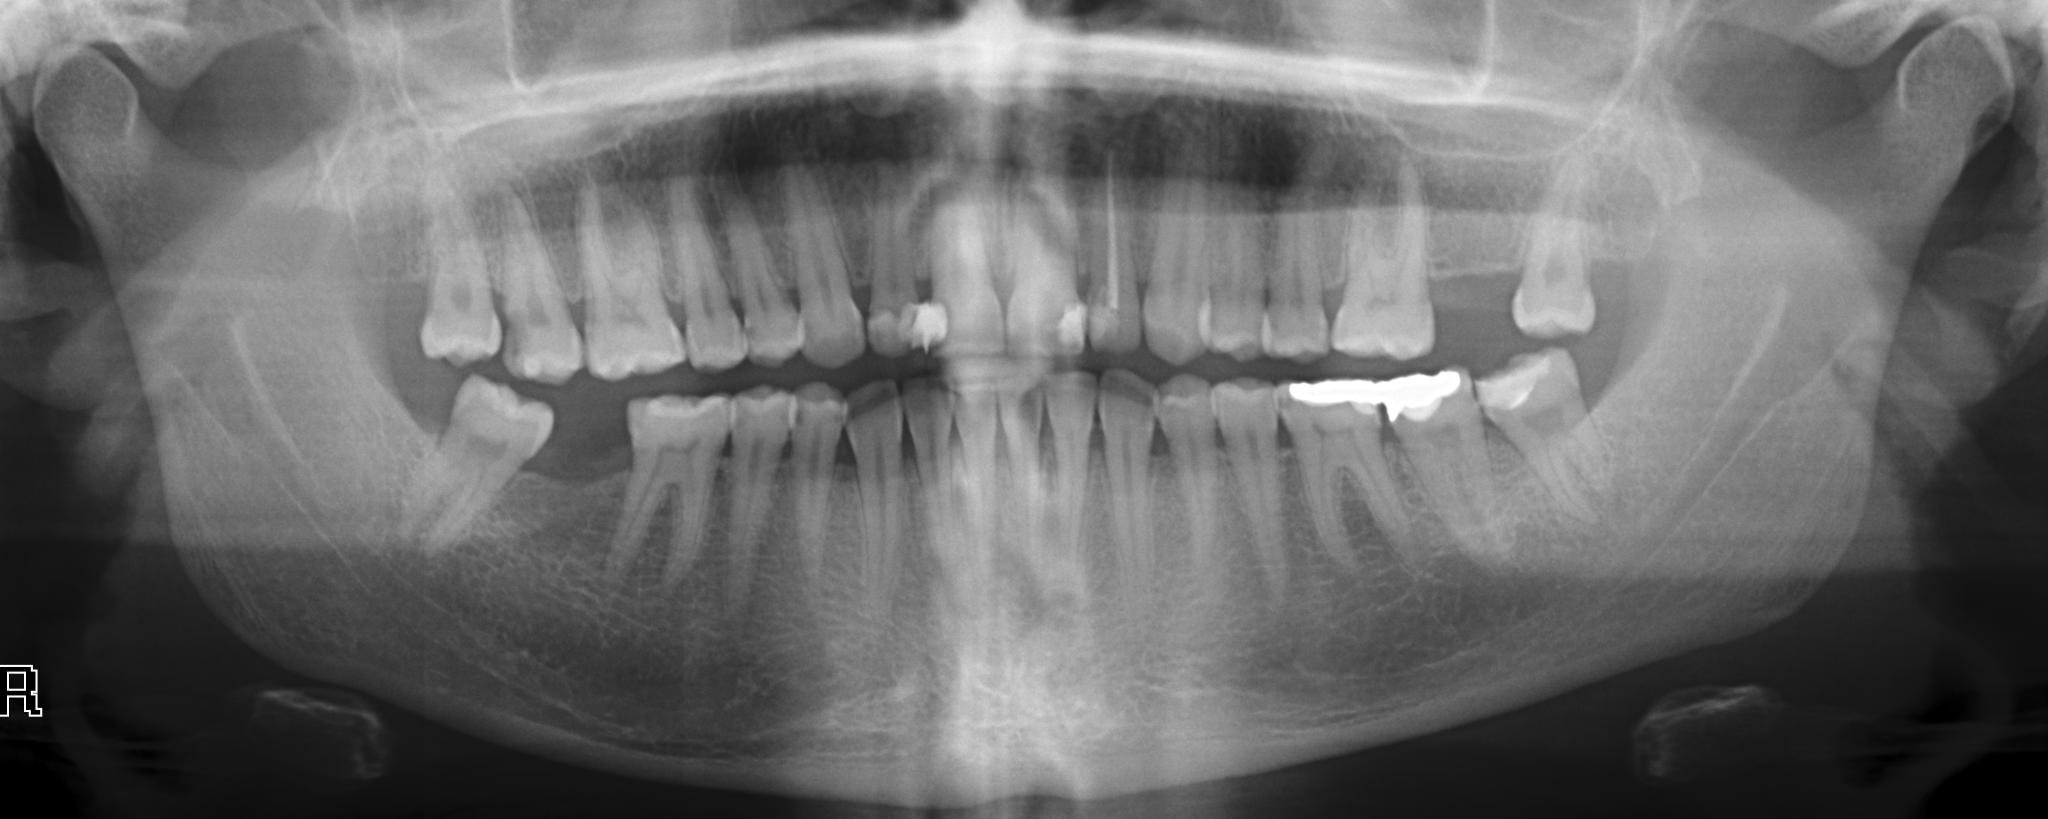Fillings: (397, 375, 556, 554), (1273, 377, 1405, 550)
